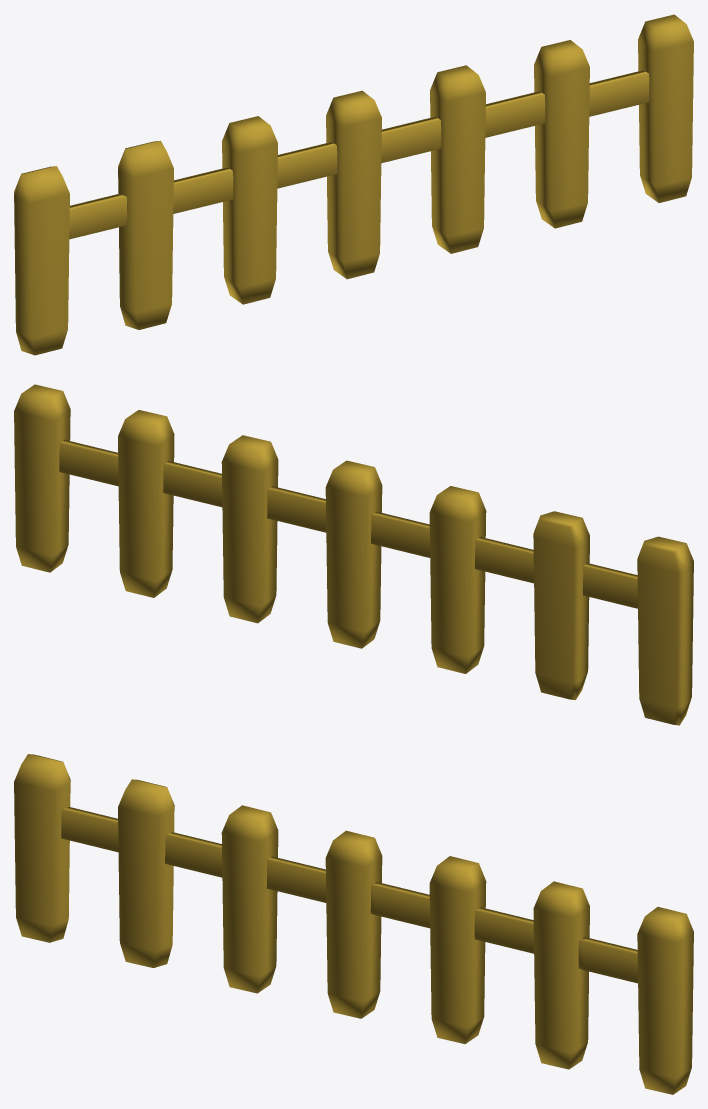
File: FenceLow.fbx
3 views of the same model, one above another, from view 1: azimuth 30°, elevation 25°; view 2: azimuth 150°, elevation 25°; view 3: azimuth 330°, elevation 25° (orthographic).
Visible parts, largest first — view 1: polySurface46; view 2: polySurface46; view 3: polySurface46.
Part boxes in pixels (x1,y1,x2,y2): polySurface46: [14, 14, 693, 355]; polySurface46: [14, 384, 693, 725]; polySurface46: [14, 754, 693, 1094].
Size of the model in its own units: 1.73 by 0.4362 by 0.0736.
